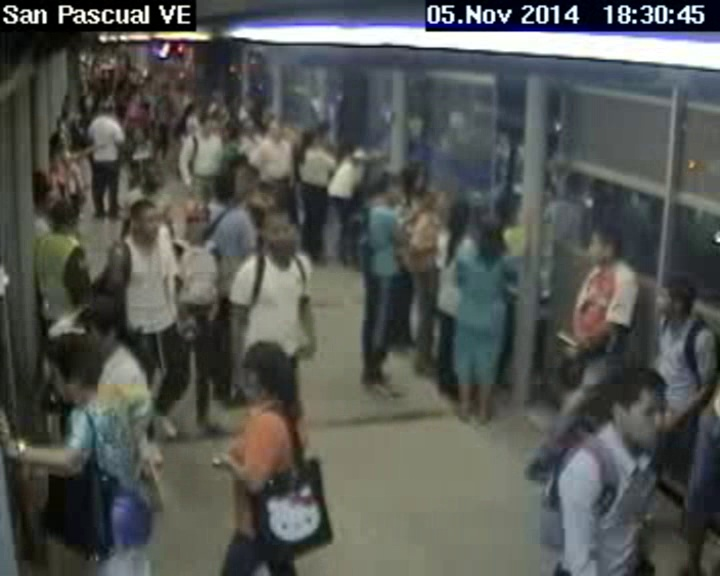person: (606, 361, 665, 451), (233, 336, 298, 409), (44, 331, 101, 408), (82, 295, 122, 359), (472, 212, 503, 271), (583, 222, 623, 267), (263, 209, 296, 262), (660, 276, 696, 323), (29, 163, 56, 216), (48, 198, 82, 240), (399, 158, 431, 202), (443, 199, 472, 246), (132, 196, 159, 243), (183, 203, 209, 245), (205, 171, 235, 207), (368, 176, 394, 211), (416, 181, 440, 217), (299, 126, 321, 160), (53, 142, 71, 170), (196, 114, 216, 139), (266, 119, 284, 144), (341, 139, 370, 152), (98, 101, 114, 121), (158, 80, 168, 97), (129, 92, 141, 105)
